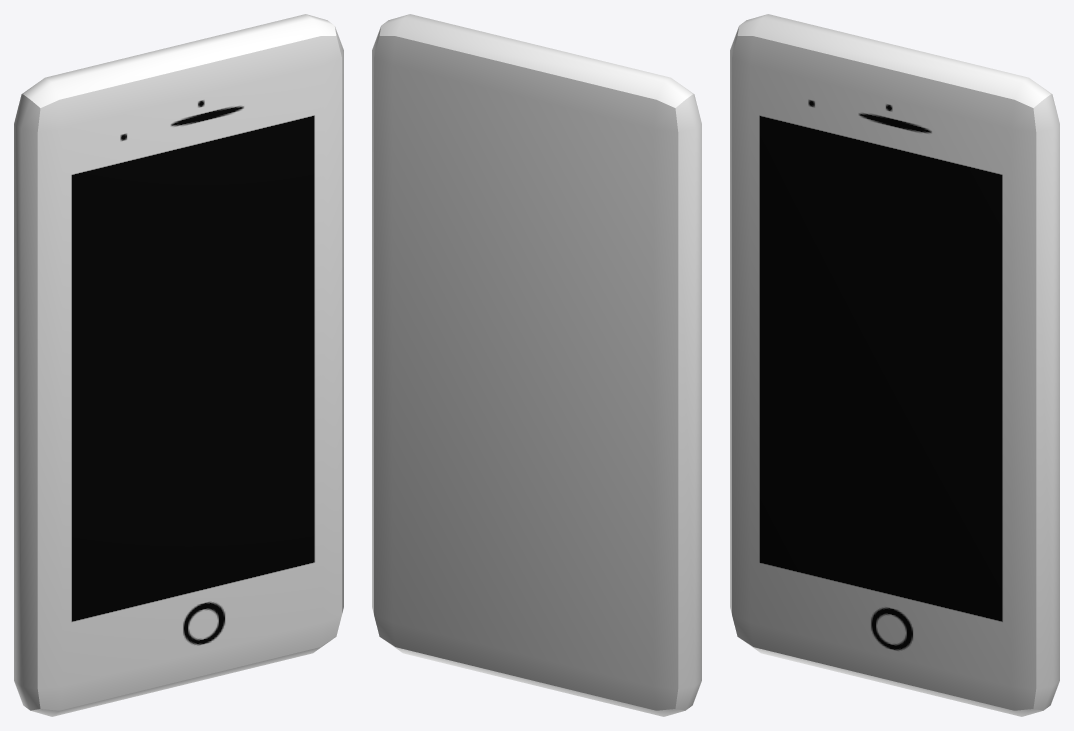
The model's file is smartphone.FBX.
3 views of the same model, side by side, from view 1: azimuth 30°, elevation 25°; view 2: azimuth 150°, elevation 25°; view 3: azimuth 330°, elevation 25° (orthographic).
Parts seen in each view (by area): view 1: Box001; view 2: Box001; view 3: Box001.
Boxes of the visible parts, bbox=[...] form: Box001: bbox=[14, 14, 343, 716]; Box001: bbox=[372, 14, 701, 716]; Box001: bbox=[730, 14, 1059, 716].
Size of the model in its own units: 5.84 by 10.96 by 0.8806.
1 material, 1 textured.
